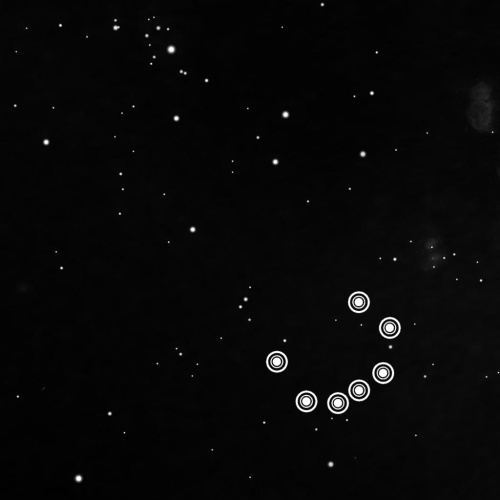corona_borealis: (261, 282, 405, 419)
